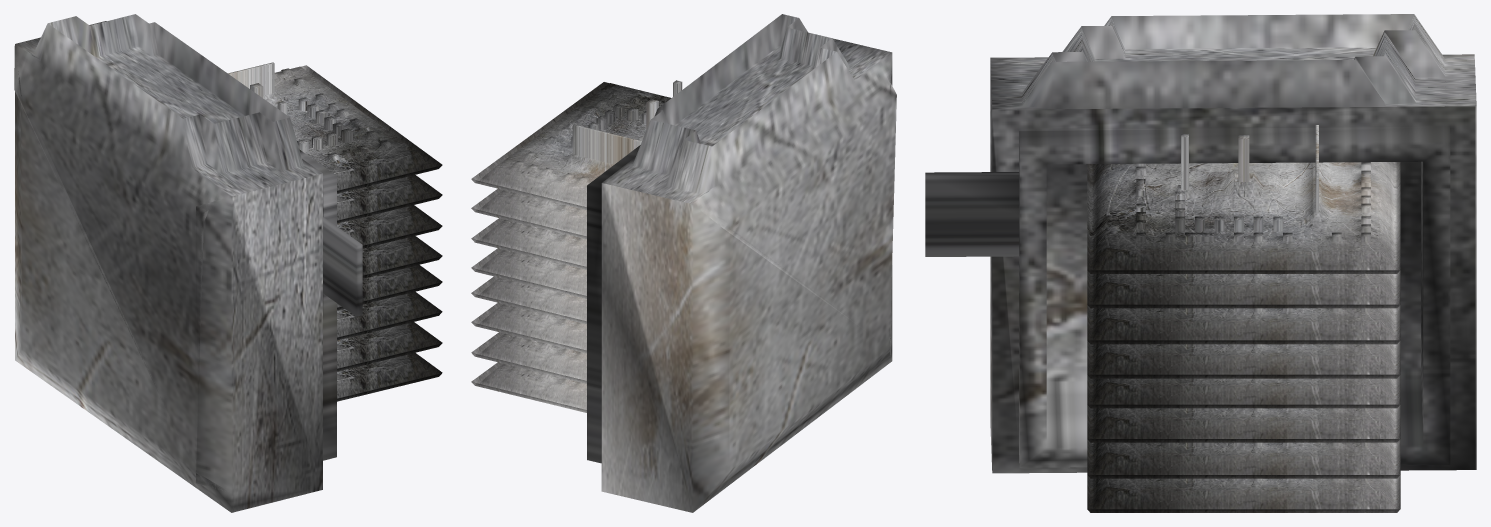
File: pieza28.fbx
3 renders of one model, left to right at view 1: azimuth 30°, elevation 25°; view 2: azimuth 150°, elevation 25°; view 3: azimuth 270°, elevation 25°, orthographic. The views are drawn at different scales.
Parts seen in each view (by area): view 1: Plane.008; view 2: Plane.008; view 3: Plane.008.
Part boxes in pixels (x1=…): Plane.008: x1=14, y1=14, x2=442, y2=512; Plane.008: x1=471, y1=14, x2=896, y2=512; Plane.008: x1=925, y1=14, x2=1476, y2=512.
Bounding box in the file's own units: 319 × 393 × 481.
Materials: 10 (10 with a texture image).
